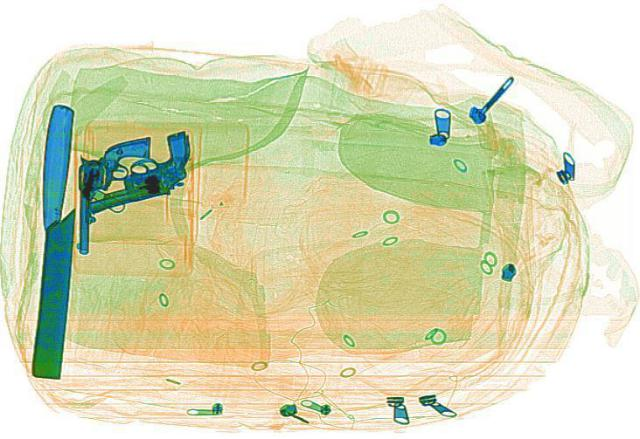Gun: (55, 129, 216, 213), (74, 135, 150, 252)
Knife: (26, 103, 82, 380)
